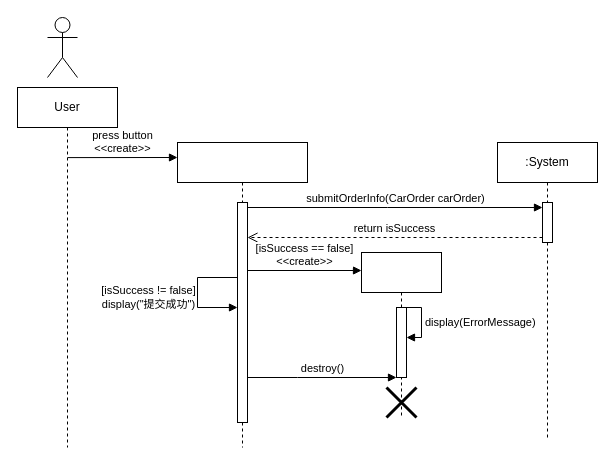
This 615x465 diagram has some shape labels left out. The box of each missing label's shape, as (x1, y1, x2, y2) in pixels:
CarOrder :GUI: (176, 142, 308, 448)
SystemError :GUI: (360, 252, 442, 418)
